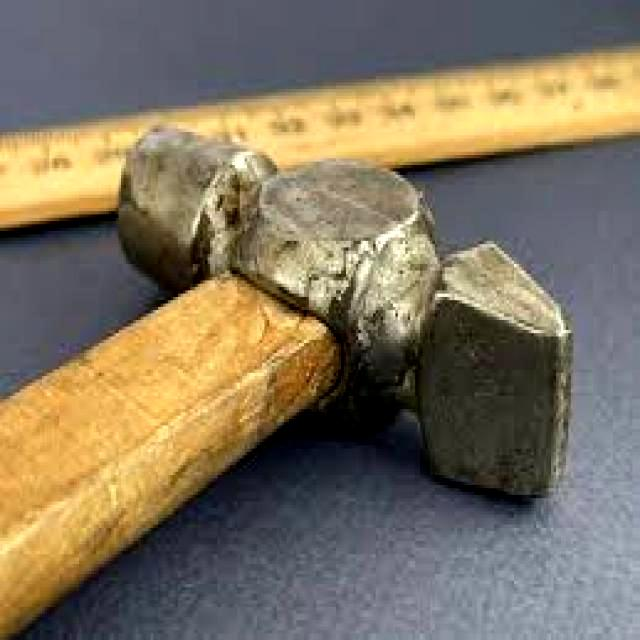hammer: (0, 120, 584, 639)
